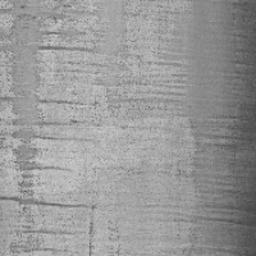Waist folding: (0, 0, 196, 256), (161, 116, 240, 177), (159, 213, 197, 256), (107, 220, 128, 256), (206, 205, 238, 224)
